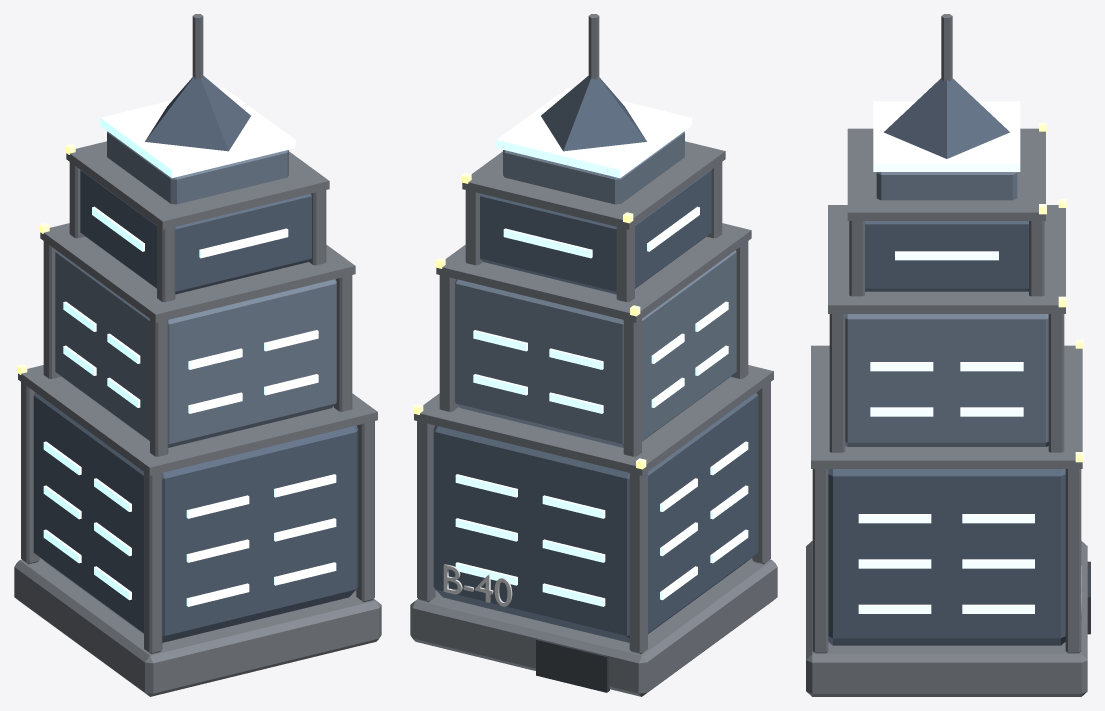
File: tower.glb
The picture shows the model from 3 angles, left to right: view 1: azimuth 30°, elevation 25°; view 2: azimuth 150°, elevation 25°; view 3: azimuth 270°, elevation 25°; orthographic projection. The views are drawn at different scales.
Visible parts, largest first — view 1: tower, detail; view 2: tower, detail; view 3: tower, detail.
Boxes of the visible parts, x1,y1,x2,y2 form: tower: (14, 76, 381, 696); detail: (17, 14, 203, 374); tower: (410, 76, 777, 696); detail: (413, 14, 646, 469); tower: (806, 78, 1090, 696); detail: (941, 14, 1083, 462).
Bounding box in the file's own units: 18 × 44 × 18.2.
